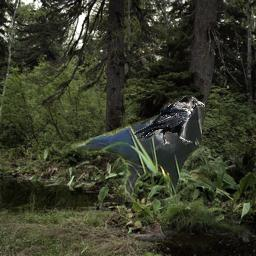Crow: (71, 98, 202, 202), (133, 95, 205, 147)
